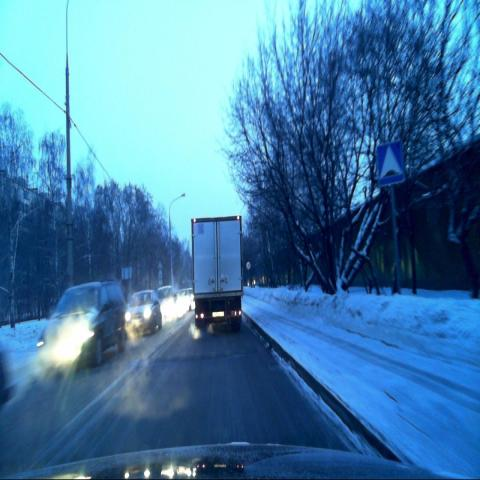5_20: (375, 141, 404, 185)
